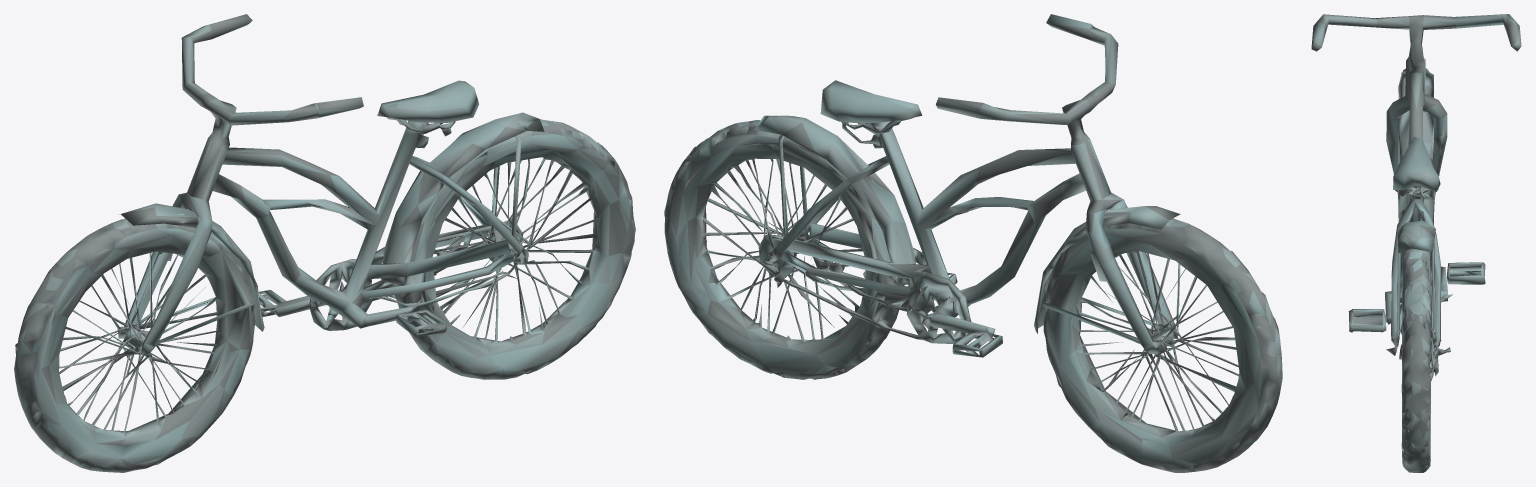
Rendered from bike2.glb.
3 renders of one model, left to right at view 1: azimuth 30°, elevation 25°; view 2: azimuth 150°, elevation 25°; view 3: azimuth 270°, elevation 25°, orthographic. The views are drawn at different scales.
Parts seen in each view (by area): view 1: LO.001; view 2: LO.001; view 3: LO.001.
Boxes of the visible parts, x1,y1,x2,y2 form: LO.001: [14, 14, 635, 472]; LO.001: [664, 14, 1282, 472]; LO.001: [1311, 14, 1521, 472].
Bounding box in the file's own units: 1.9 × 1.1 × 0.6317.
1 material, 1 textured.
